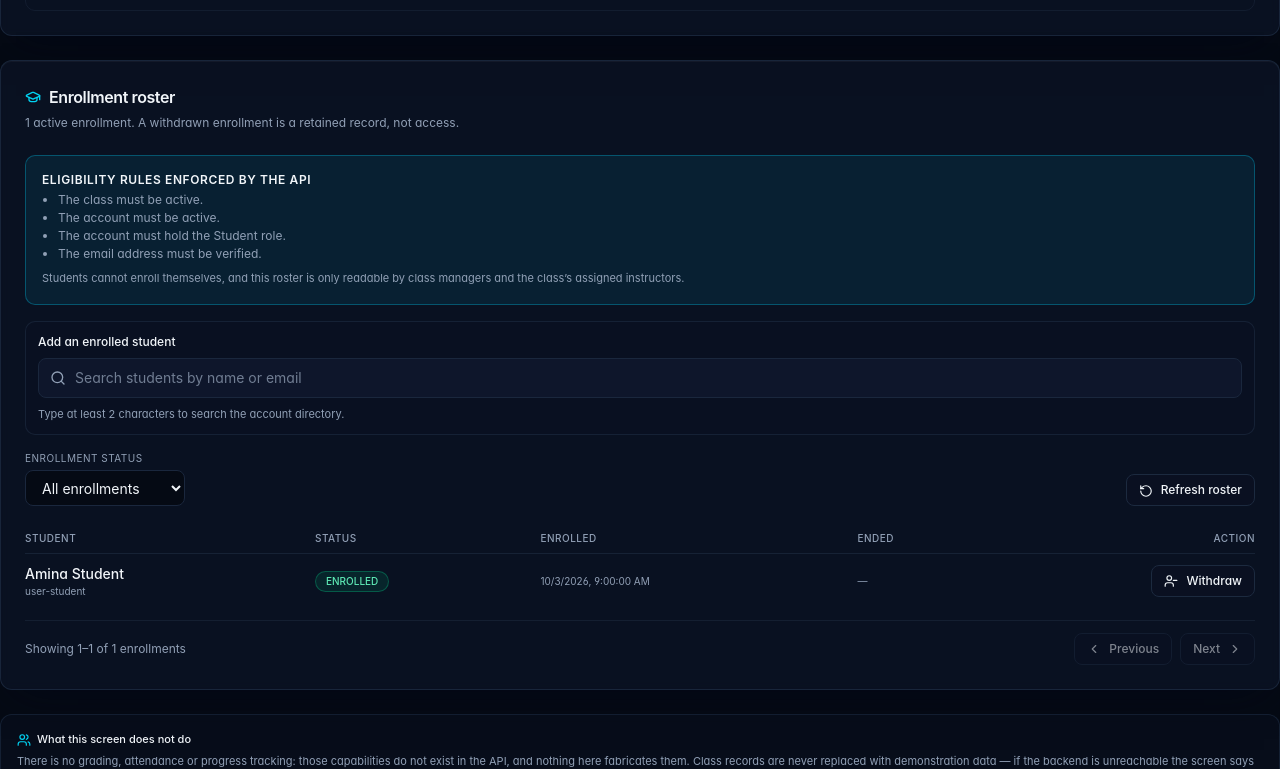
Test: Enrollment administration › explains a duplicate enrollment conflict and refetches the roster
(page scrolled)
Expected: the heading "Enrollment roster" is shown, [25,87,175,107]
Type "amina" into the search field named "Search student accounts" at coordinates (640, 378), box [38,358,1242,398]
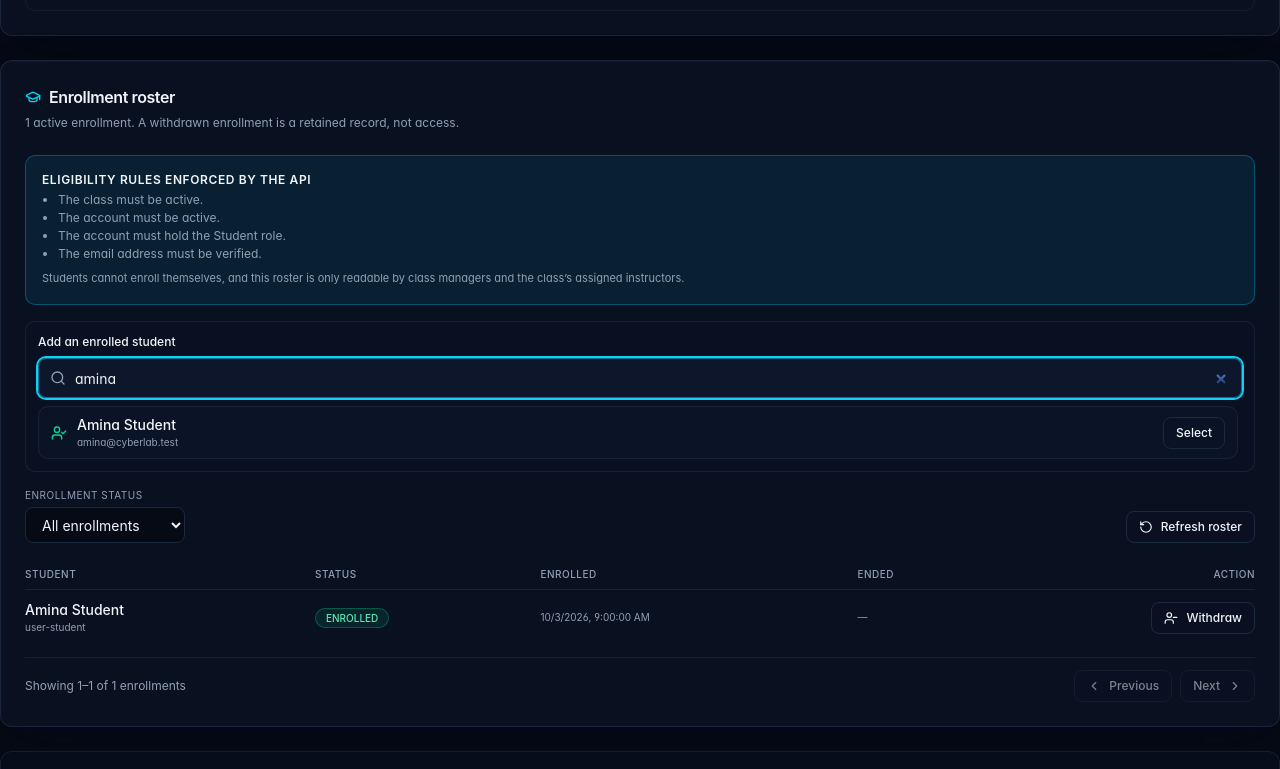
Click the button with aria-label "Select Amina Student" at coordinates (1194, 433), box [1163,417,1225,449]
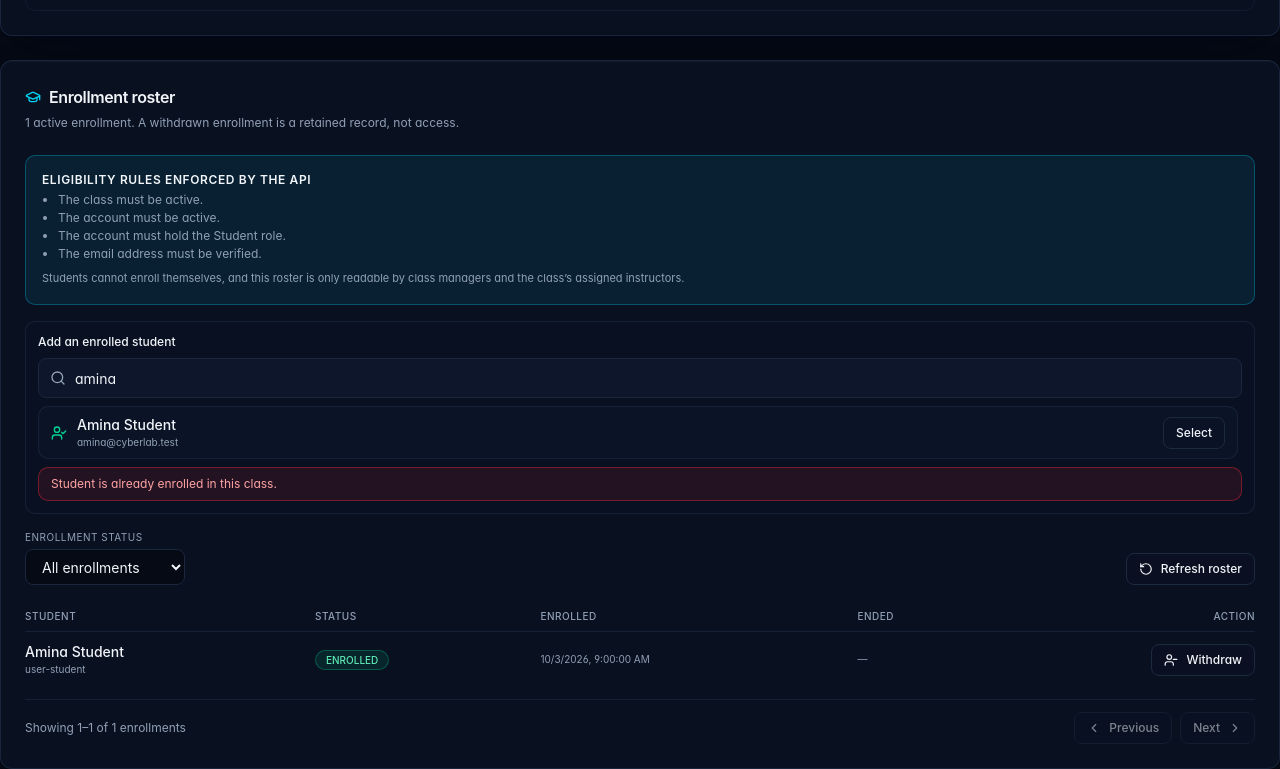
Expected: the text "Student is already enrolled in this class." is shown, [38,467,1242,501]
